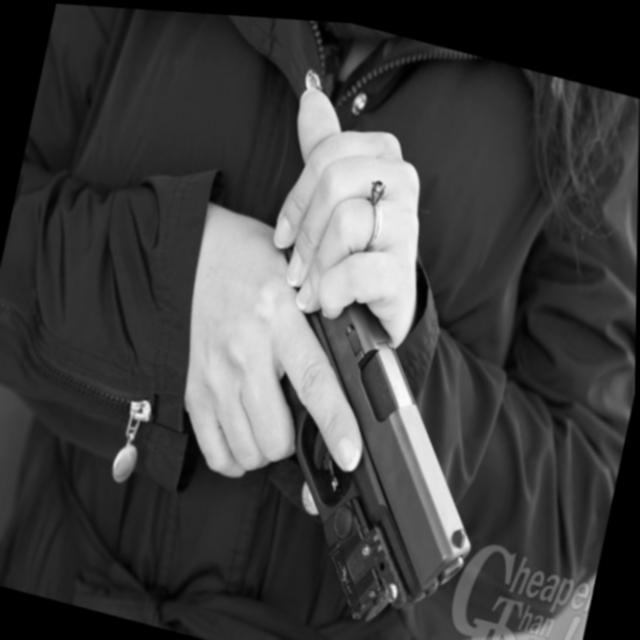weapon: (212, 231, 525, 640)
